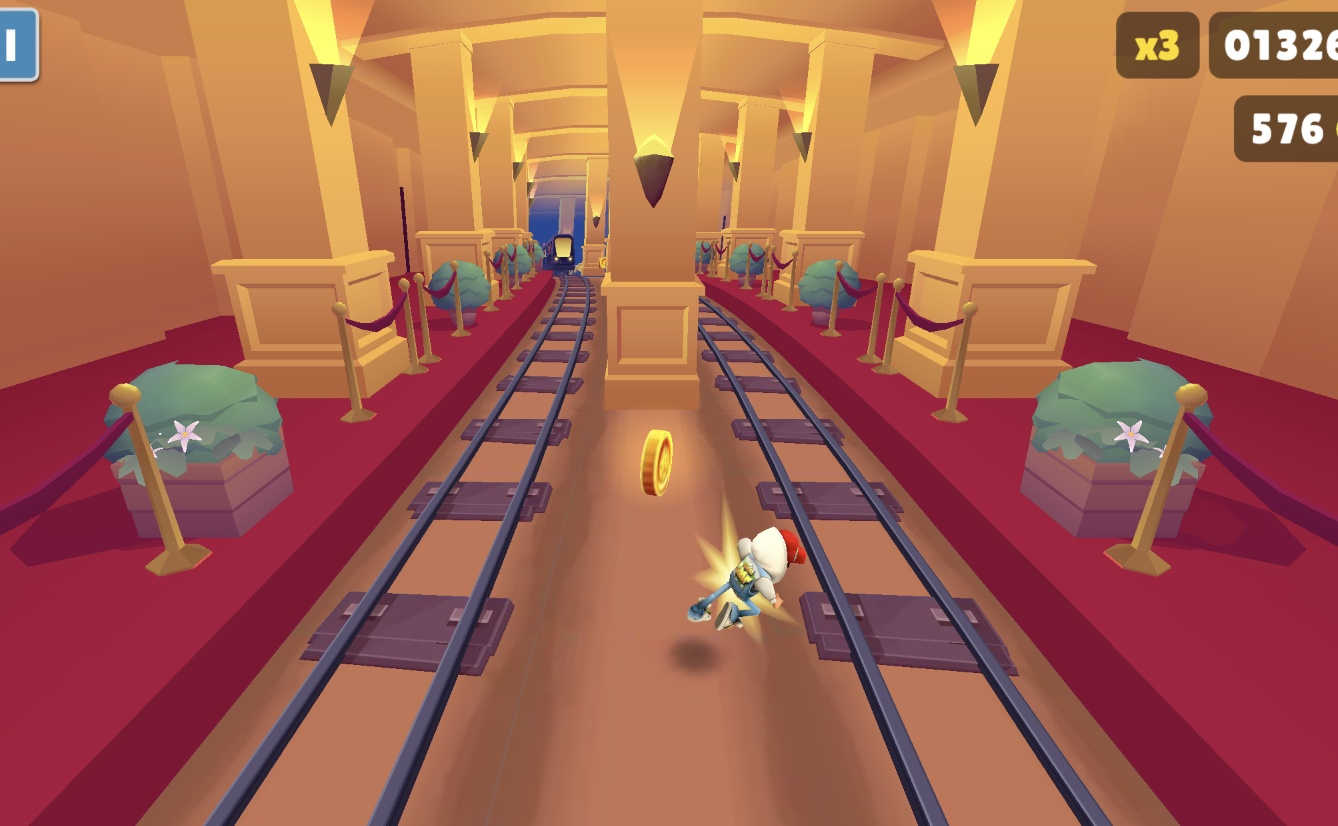pillar: (607, 0, 706, 429)
train: (547, 207, 574, 284)
